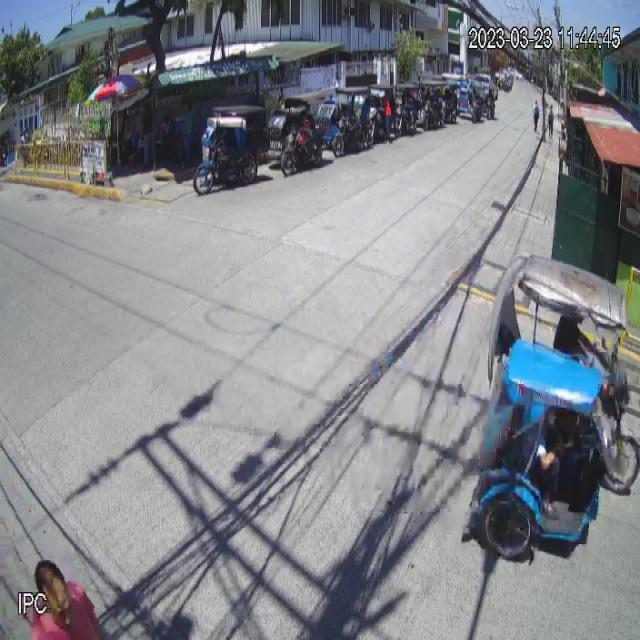Tricycle: (462, 252, 640, 564)
